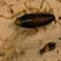cockroach: (14, 10, 56, 30), (40, 42, 56, 55)
